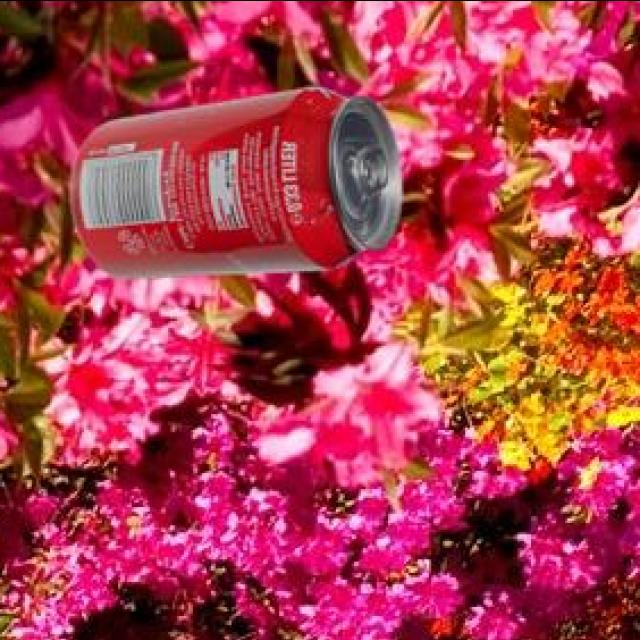logam: (74, 90, 405, 280)
